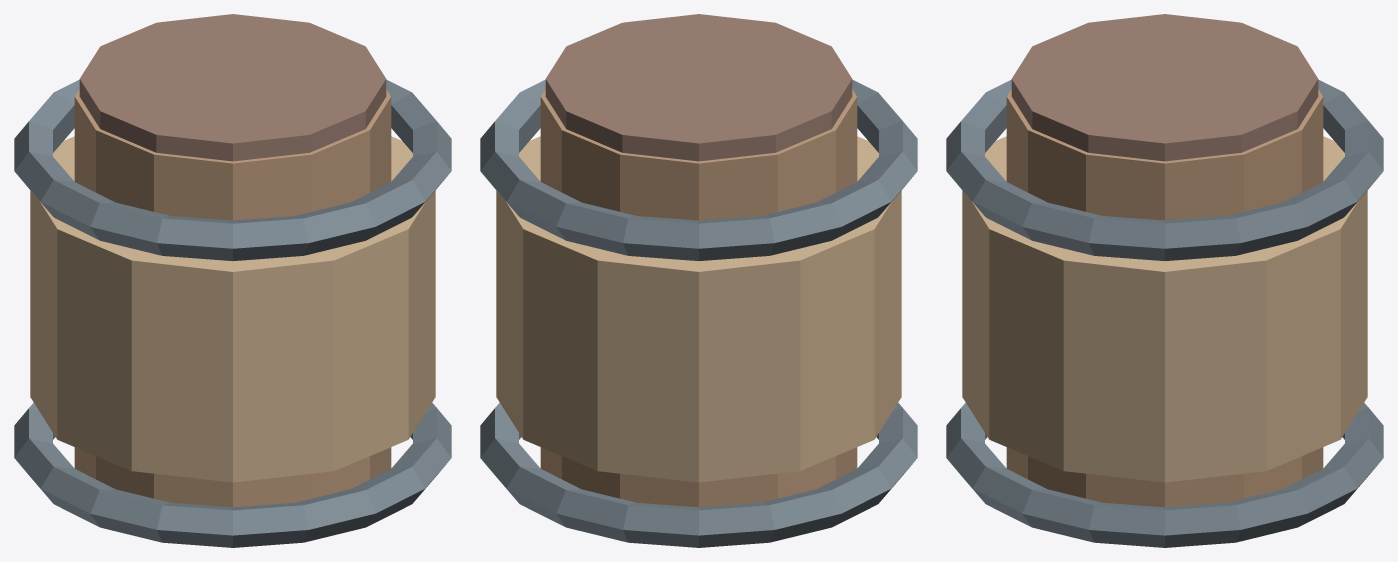
Rendered from barril.glb.
3 renders of one model, left to right at view 1: azimuth 30°, elevation 25°; view 2: azimuth 150°, elevation 25°; view 3: azimuth 270°, elevation 25°, orthographic.
Visible parts, largest first — view 1: barril; view 2: barril; view 3: barril.
Part boxes in pixels (x1,y1,x2,y2): barril: (14,14,451,547); barril: (480,14,917,547); barril: (946,14,1383,547).
Size of the model in its own units: 0.898 by 0.89 by 0.8844.
